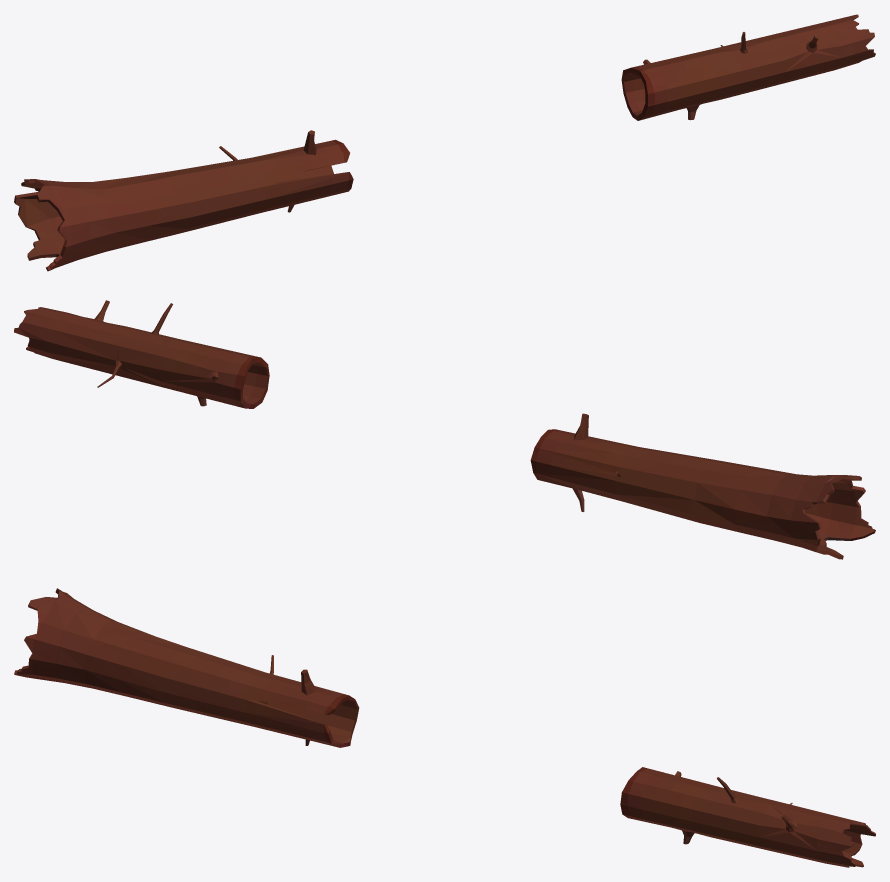
File: Fallen_Tree_02.fbx
3 views of the same model, one above another, from view 1: azimuth 30°, elevation 25°; view 2: azimuth 150°, elevation 25°; view 3: azimuth 330°, elevation 25° (orthographic).
Visible parts, largest first — view 1: SM_Tree_Fallen_02.mo; view 2: SM_Tree_Fallen_02.mo; view 3: SM_Tree_Fallen_02.mo.
Part boxes in pixels (left/top/right/bottom): SM_Tree_Fallen_02.mo: left=14, top=14, right=875, bottom=271; SM_Tree_Fallen_02.mo: left=14, top=300, right=875, bottom=559; SM_Tree_Fallen_02.mo: left=14, top=588, right=875, bottom=867.
Bounding box in the file's own units: 1782 × 190 × 208.
